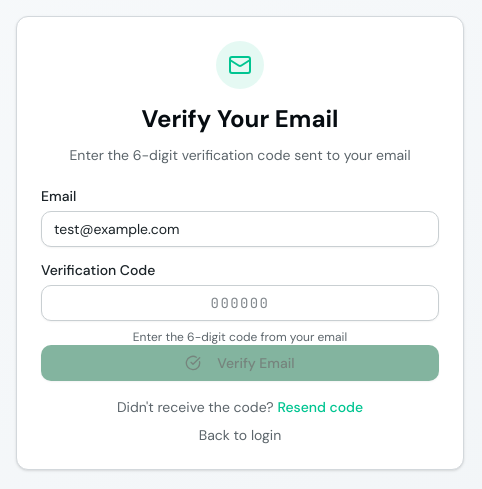
Test: VerifyEmail Page › Form Submission › shows success state after successful verification
In the field labelled "Verification Code": [240, 303] box [41, 285, 439, 321], type "123456"
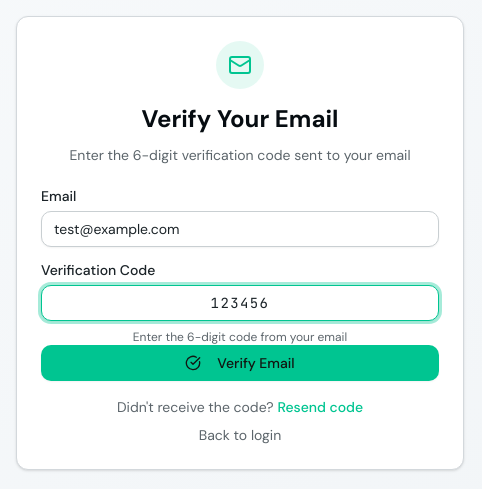
Click the button "Verify Email": [240, 363] box [41, 345, 439, 381]
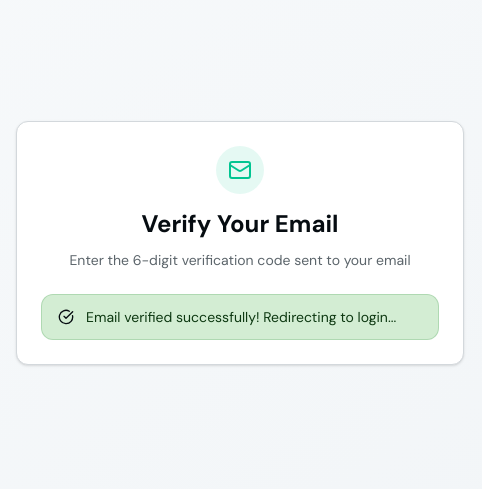
Expected: the text "Email verified successfully! Redirecting to login..." is shown, [86, 307, 422, 327]
